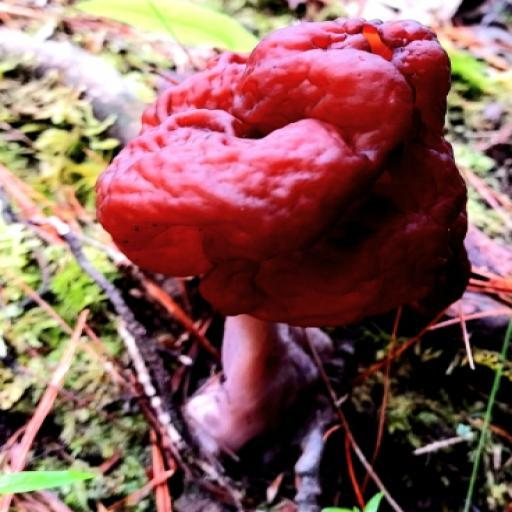mushroom: (89, 13, 476, 372)
